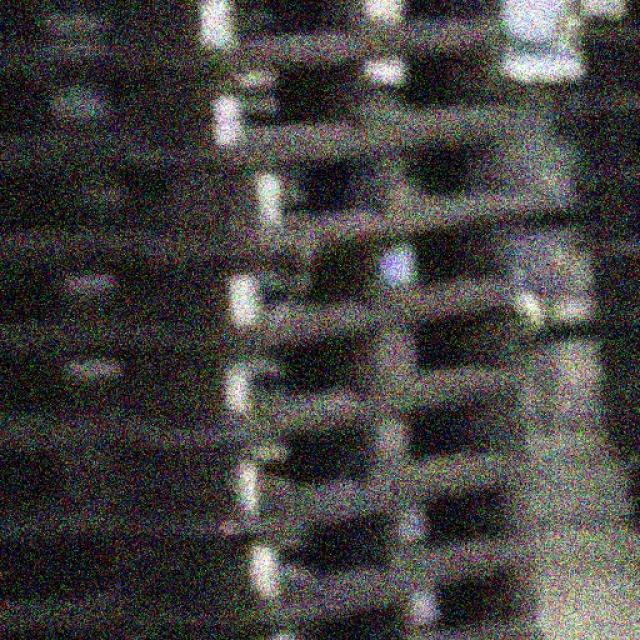igps: (0, 434, 545, 640), (0, 348, 548, 536), (0, 268, 538, 448), (0, 99, 560, 257), (0, 211, 534, 355), (0, 28, 526, 158), (0, 0, 511, 75), (268, 526, 552, 640)
